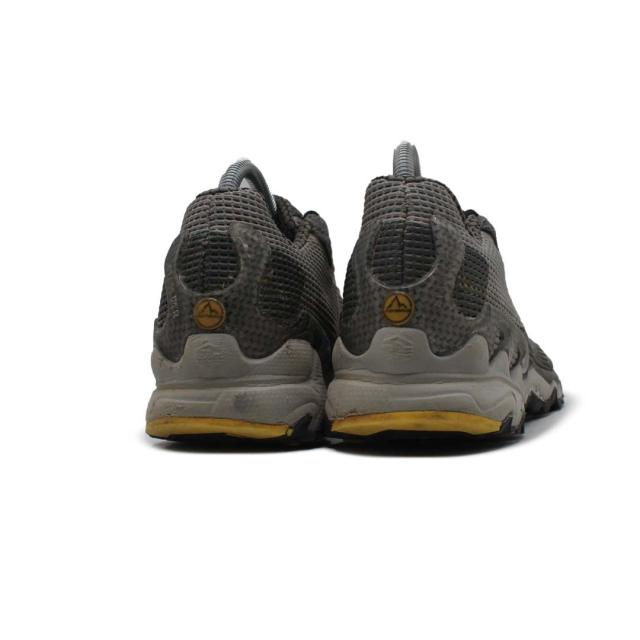heel: (329, 156, 503, 375), (163, 177, 321, 382)
midsole: (147, 375, 534, 456)
